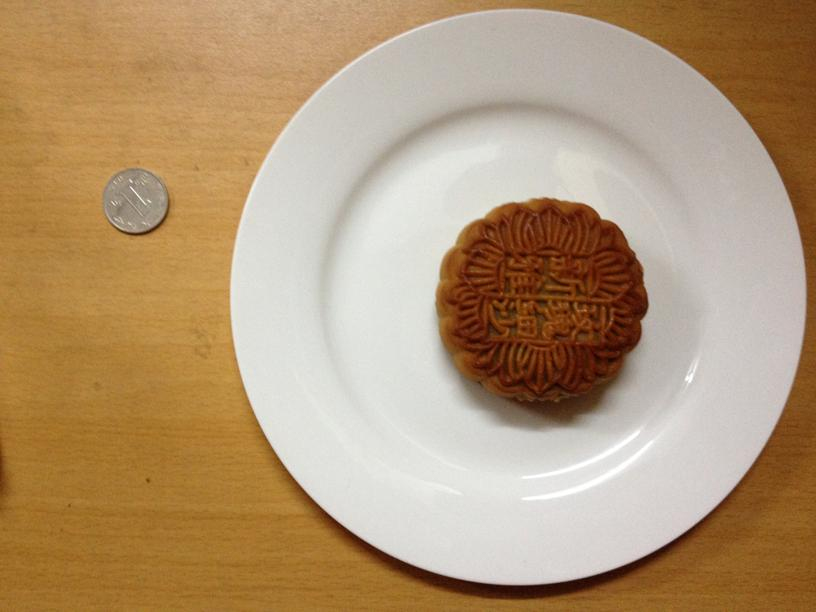coin: (103, 166, 170, 234)
mooncake: (436, 195, 647, 403)
